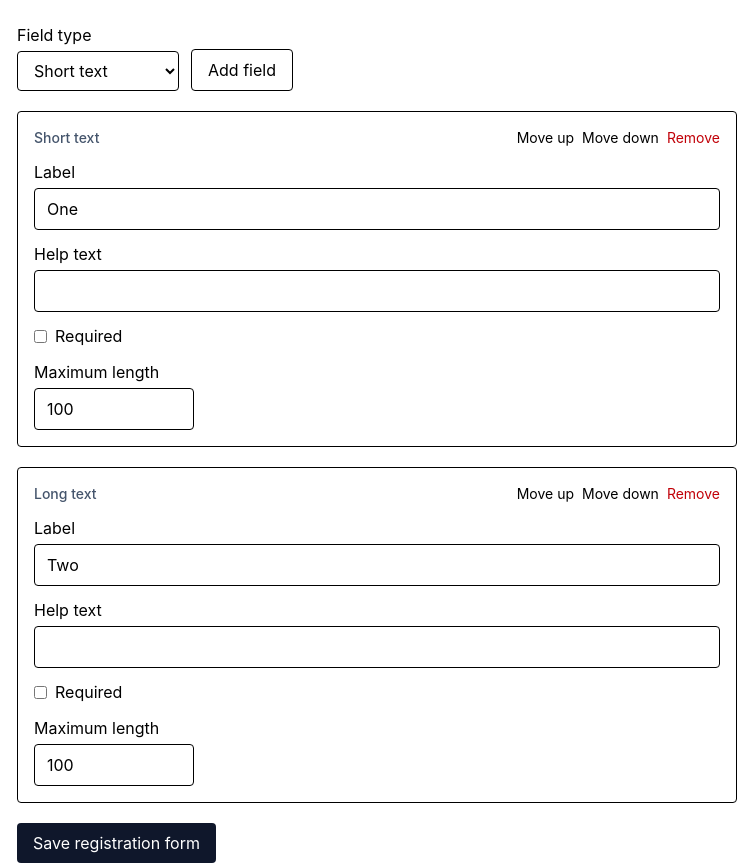
Test: OfficerRegistrationFormPage › refuses duplicate ids before sending it
(page scrolled)
Click the button "Save registration form". click: (116, 843)
box: [17,823,216,863]
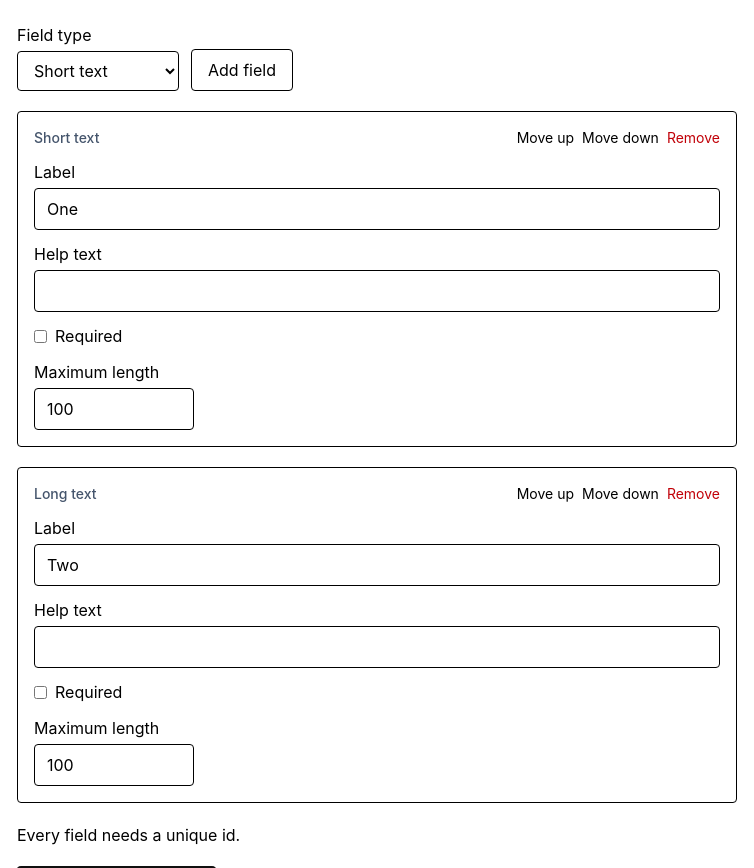
Now the message reads "Every field needs a unique id.", box [17,825,240,845]
